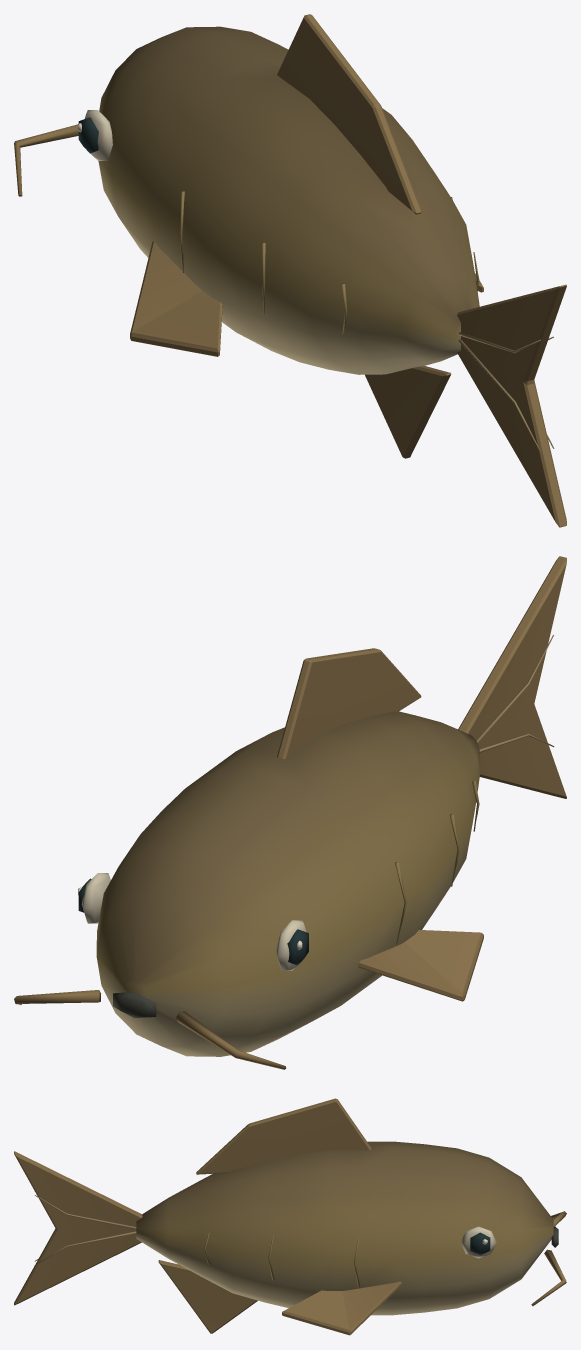
The model's file is fish_carp.glb.
The picture shows the model from 3 angles, top to bottom: view 1: azimuth 30°, elevation 25°; view 2: azimuth 150°, elevation 25°; view 3: azimuth 270°, elevation 25°; orthographic projection. The views are drawn at different scales.
Bounding box in the file's own units: 0.1842 × 0.1958 × 0.4195.
